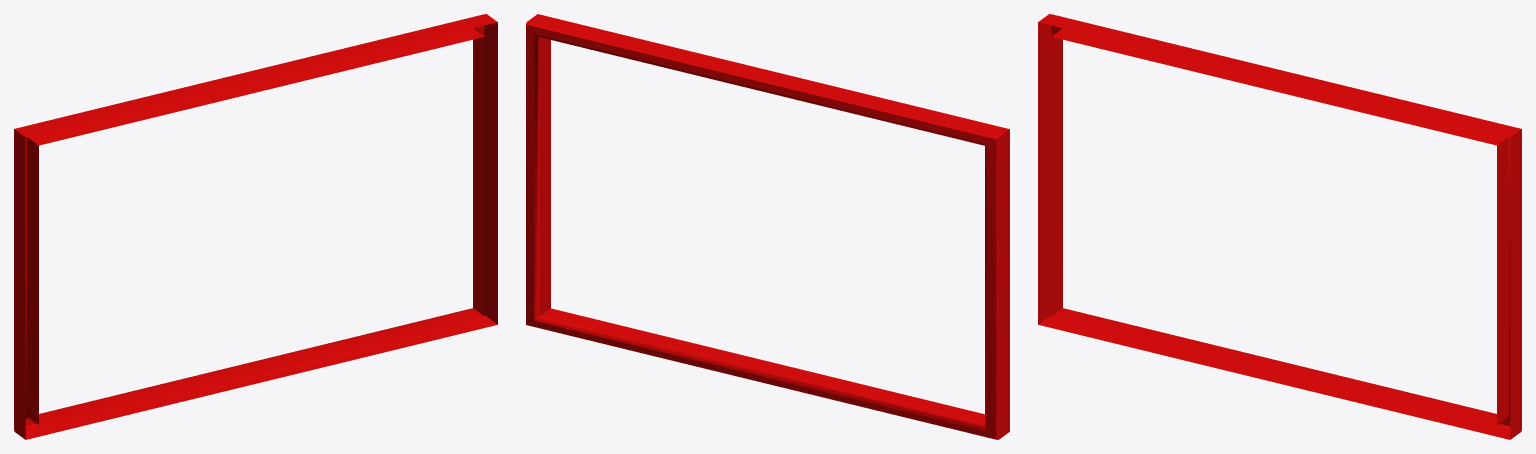
Rendered from BedRoomFakeWindowFrame.fbx.
3 views of the same model, side by side, from view 1: azimuth 30°, elevation 25°; view 2: azimuth 150°, elevation 25°; view 3: azimuth 330°, elevation 25° (orthographic).
Parts seen in each view (by area): view 1: polySurface8527; view 2: polySurface8527; view 3: polySurface8527.
Part boxes in pixels (x1,y1,x2,y2): polySurface8527: [14, 14, 497, 439]; polySurface8527: [526, 14, 1009, 439]; polySurface8527: [1038, 14, 1521, 439].
Size of the model in its own units: 309 by 189 by 15.14.
